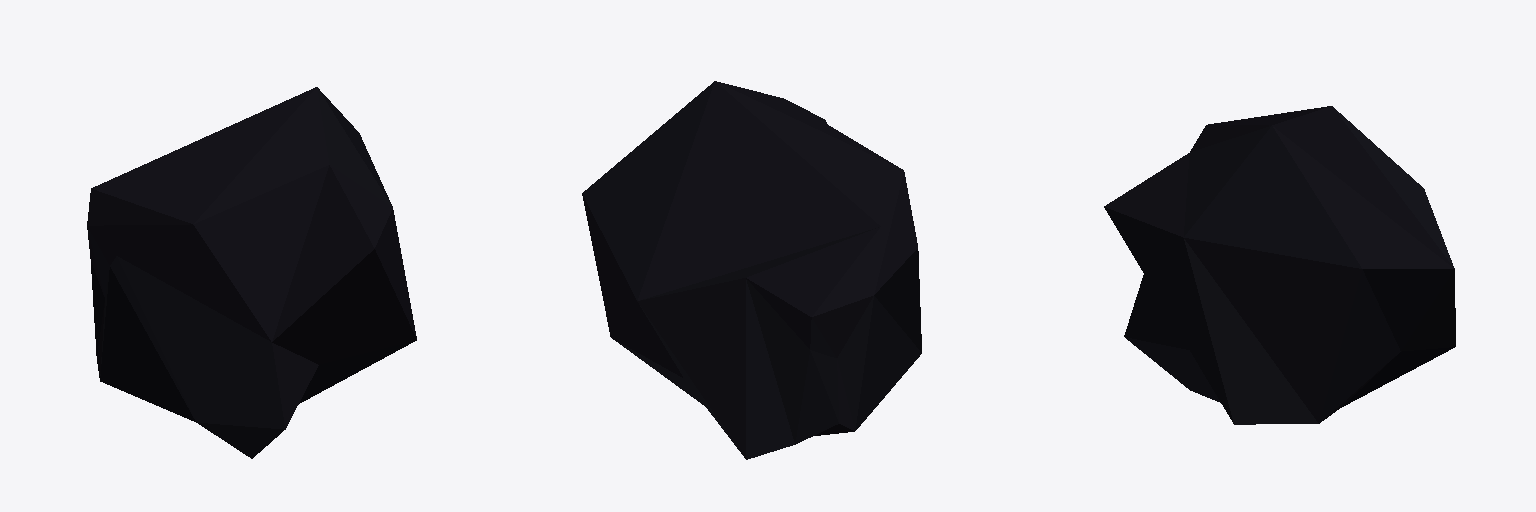
The model's file is rock.obj.
3 views of the same model, side by side, from view 1: azimuth 30°, elevation 25°; view 2: azimuth 150°, elevation 25°; view 3: azimuth 270°, elevation 25° (orthographic).
Visible parts, largest first — view 1: Cube; view 2: Cube; view 3: Cube.
Part boxes in pixels (left/top/right/bottom): Cube: left=87, top=87, right=416, bottom=458; Cube: left=582, top=81, right=921, bottom=459; Cube: left=1104, top=106, right=1455, bottom=424.
Bounding box in the file's own units: 2.88 × 3.01 × 3.04.